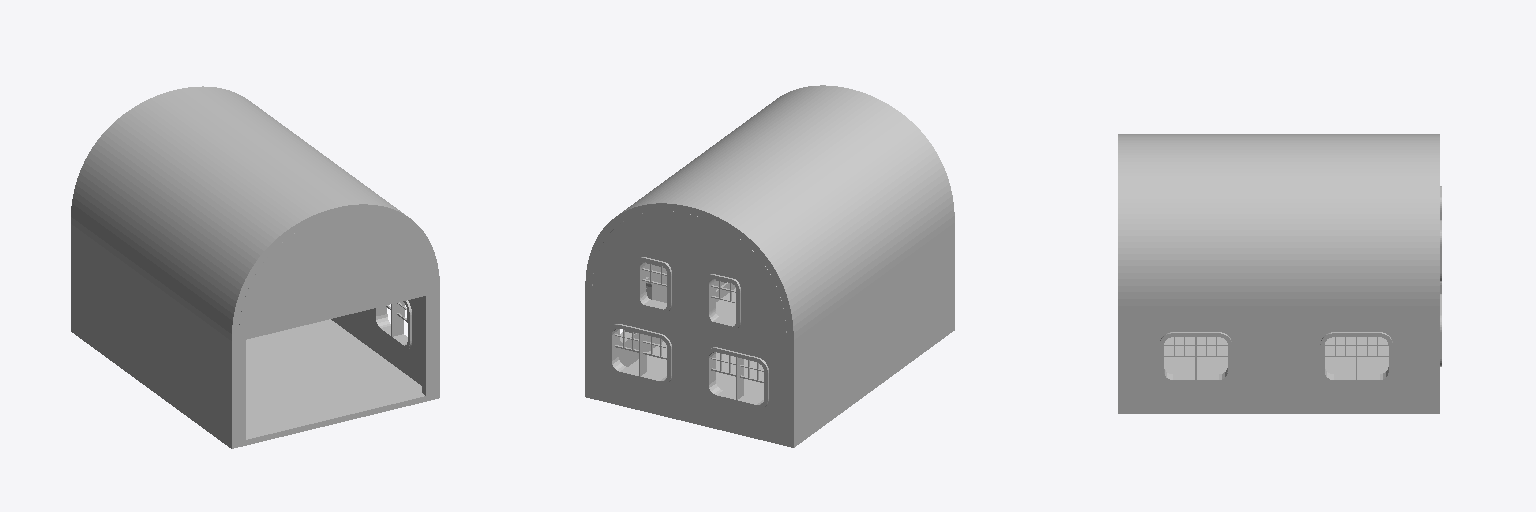
3 renders of one model, left to right at view 1: azimuth 30°, elevation 25°; view 2: azimuth 150°, elevation 25°; view 3: azimuth 270°, elevation 25°, orthographic.
Parts seen in each view (by area): view 1: object_16, object_13, object_17, object_14, object_12, object_24, object_25, object_60; view 2: object_16, object_13, object_1, object_15, object_14, object_83, object_75, object_12, object_11, object_10; view 3: object_16, object_12, object_14, object_52, object_60, object_1.
Boxes of the visible parts, box(x1,y1,x2,y2) form: object_16: box(71, 86, 439, 340); object_13: box(75, 227, 238, 442); object_17: box(239, 212, 432, 338); object_14: box(71, 319, 439, 448); object_12: box(331, 291, 439, 393); object_24: box(422, 294, 432, 395); object_25: box(239, 340, 245, 441); object_60: box(374, 300, 411, 349); object_16: box(585, 85, 954, 339); object_13: box(798, 223, 954, 438); object_1: box(585, 289, 797, 441); object_15: box(592, 211, 786, 337); object_14: box(585, 288, 954, 447); object_83: box(608, 324, 671, 385); object_75: box(705, 347, 768, 408); object_12: box(619, 263, 735, 366); object_11: box(705, 274, 740, 329); object_10: box(636, 257, 671, 313); object_16: box(1118, 134, 1439, 305); object_12: box(1118, 306, 1431, 407); object_14: box(1118, 337, 1439, 413); object_52: box(1320, 332, 1392, 383); object_60: box(1160, 332, 1231, 383); object_1: box(1432, 306, 1439, 407).
Size of the model in its own units: 8.07 by 7.88 by 10.75.